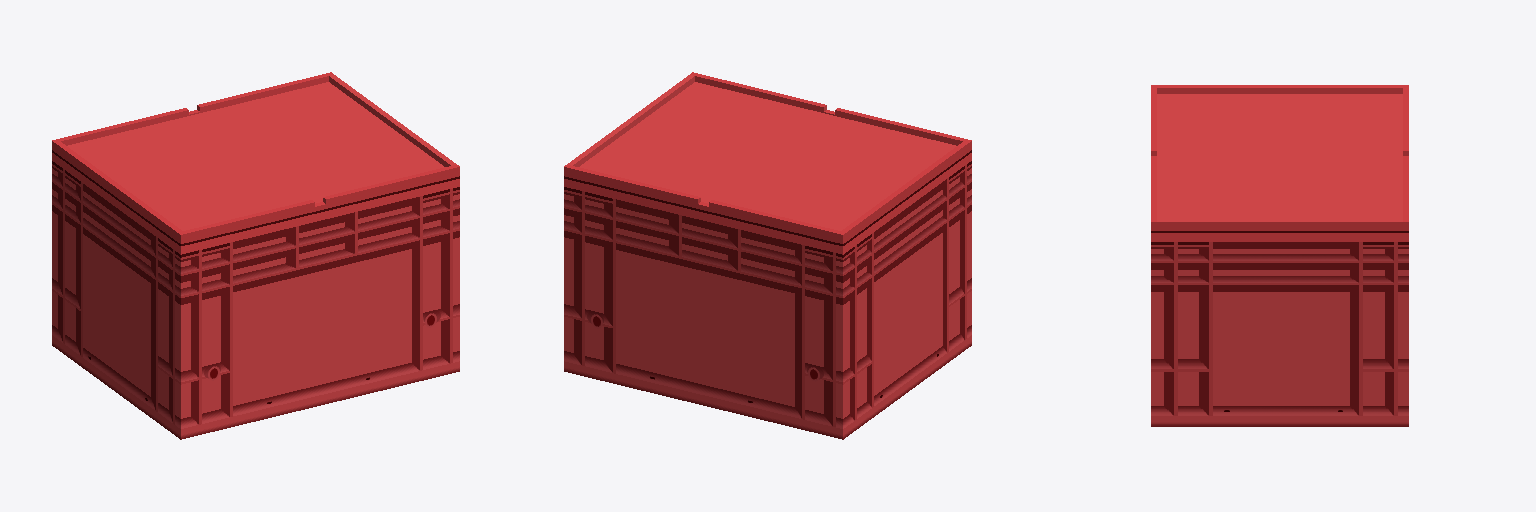
The picture shows the model from 3 angles: view 1: azimuth 30°, elevation 25°; view 2: azimuth 150°, elevation 25°; view 3: azimuth 270°, elevation 25°; orthographic projection.
Parts seen in each view (by area): view 1: Mesh1; view 2: Mesh1; view 3: Mesh1.
Part boxes in pixels (left/top/right/bottom): Mesh1: left=52, top=72, right=459, bottom=439; Mesh1: left=564, top=72, right=971, bottom=439; Mesh1: left=1151, top=85, right=1408, bottom=426.
Size of the model in its own units: 500 by 350 by 400.
1 materials, 1 textured.